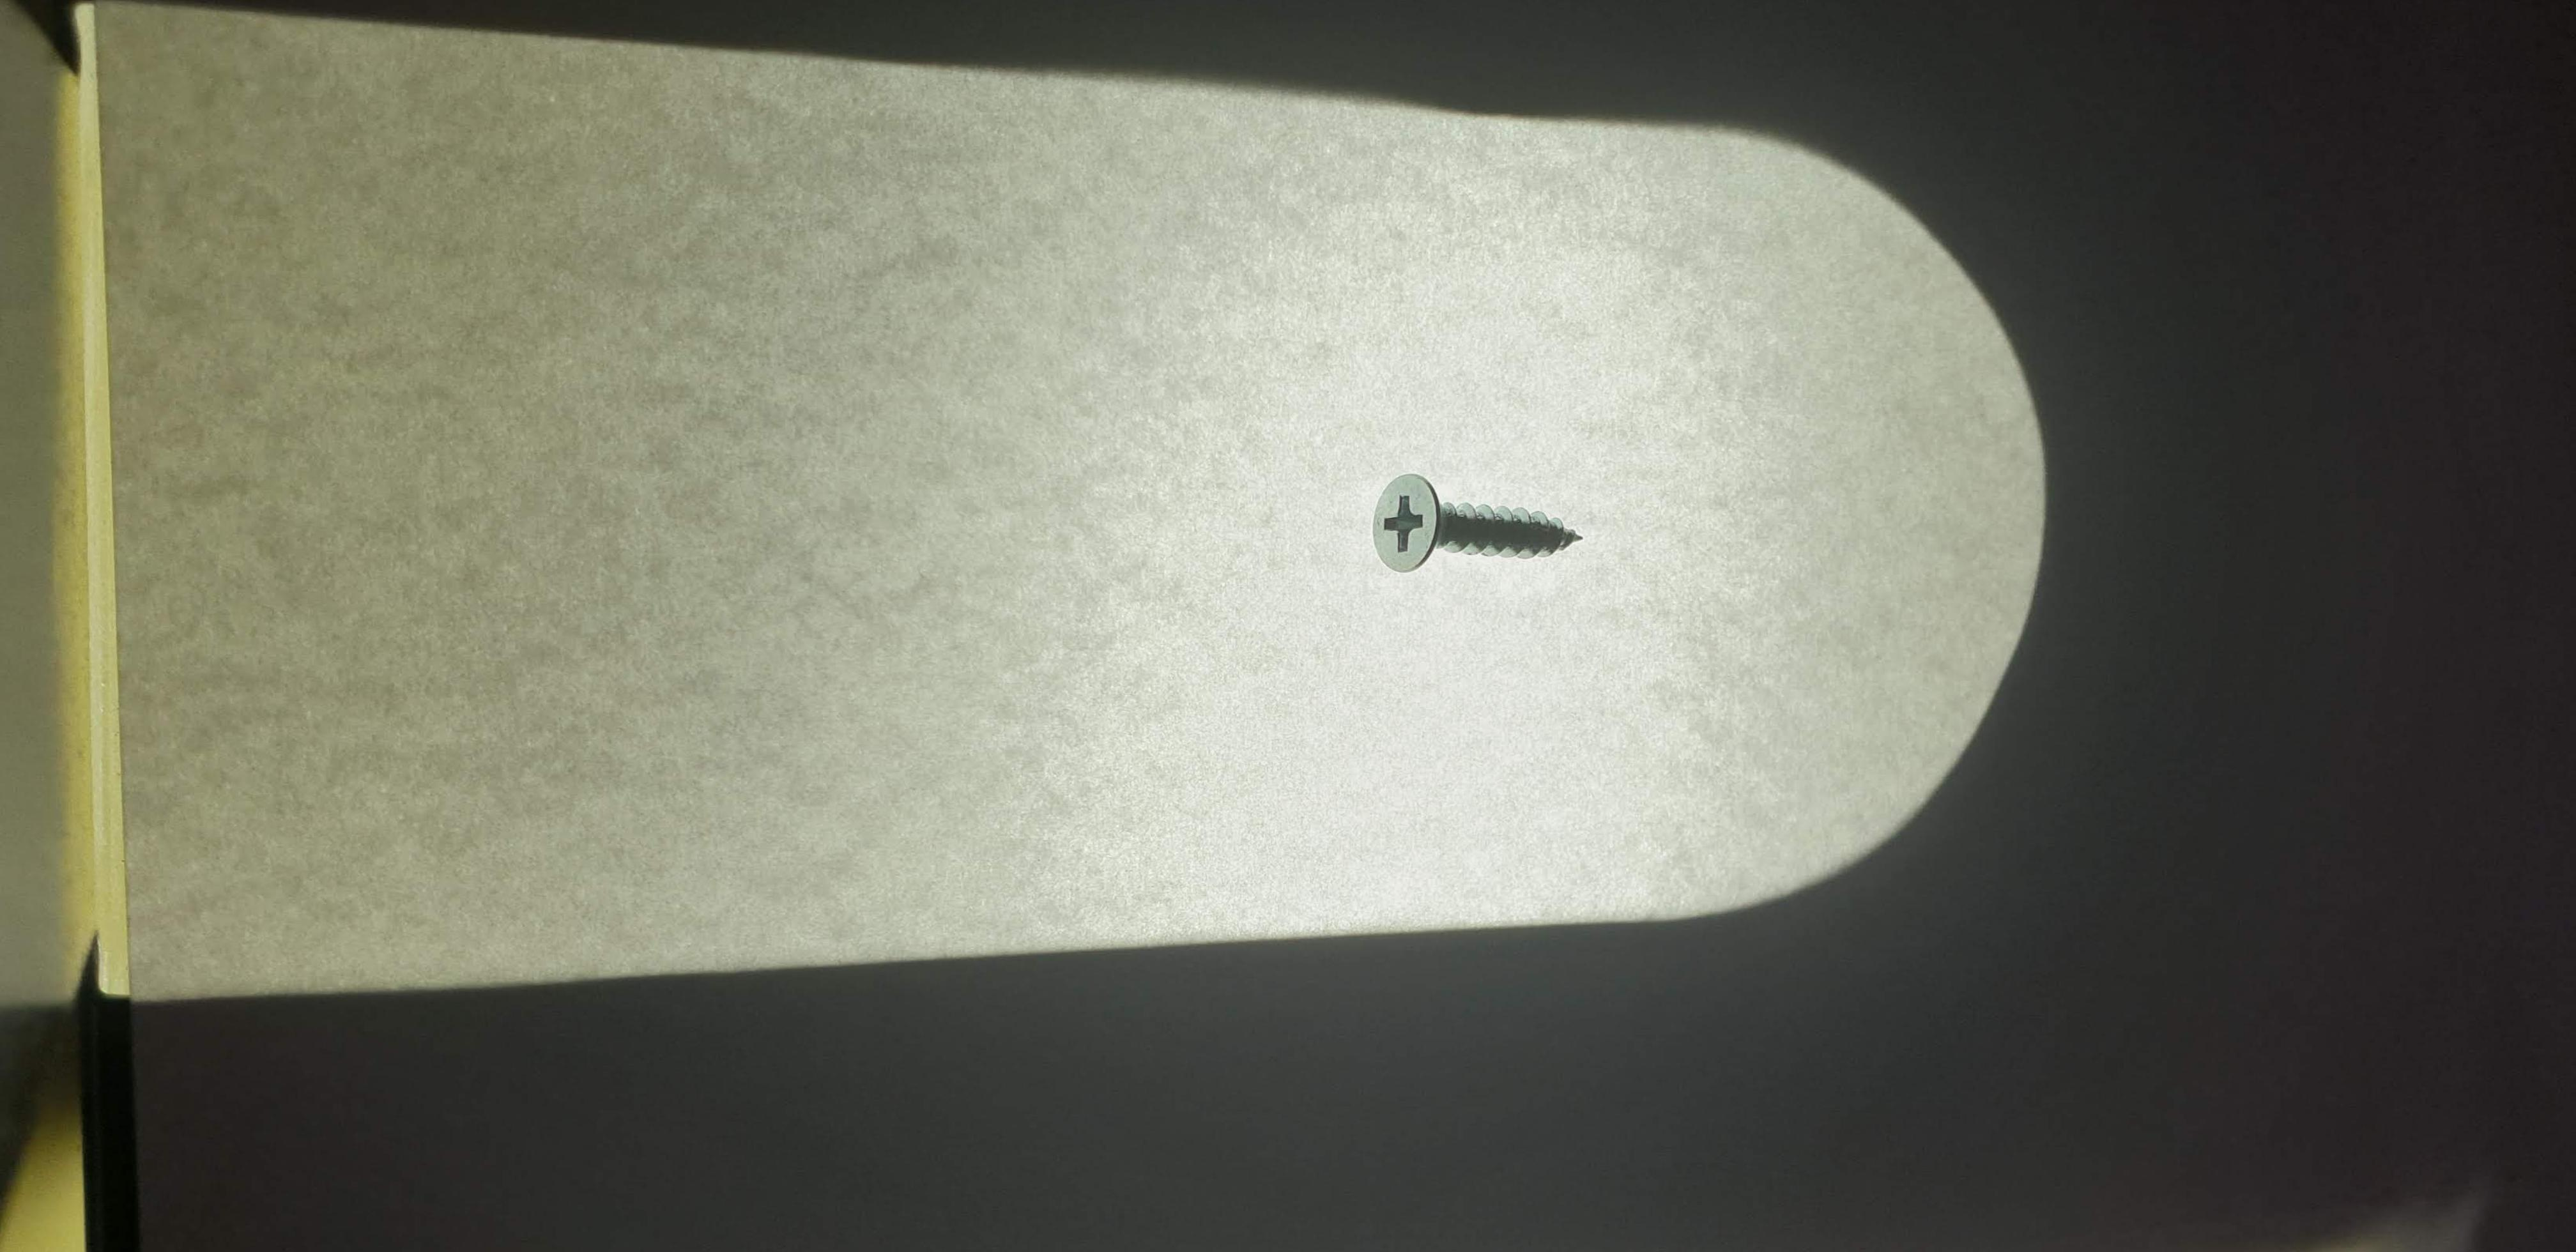S003: (1334, 442, 1625, 606)
